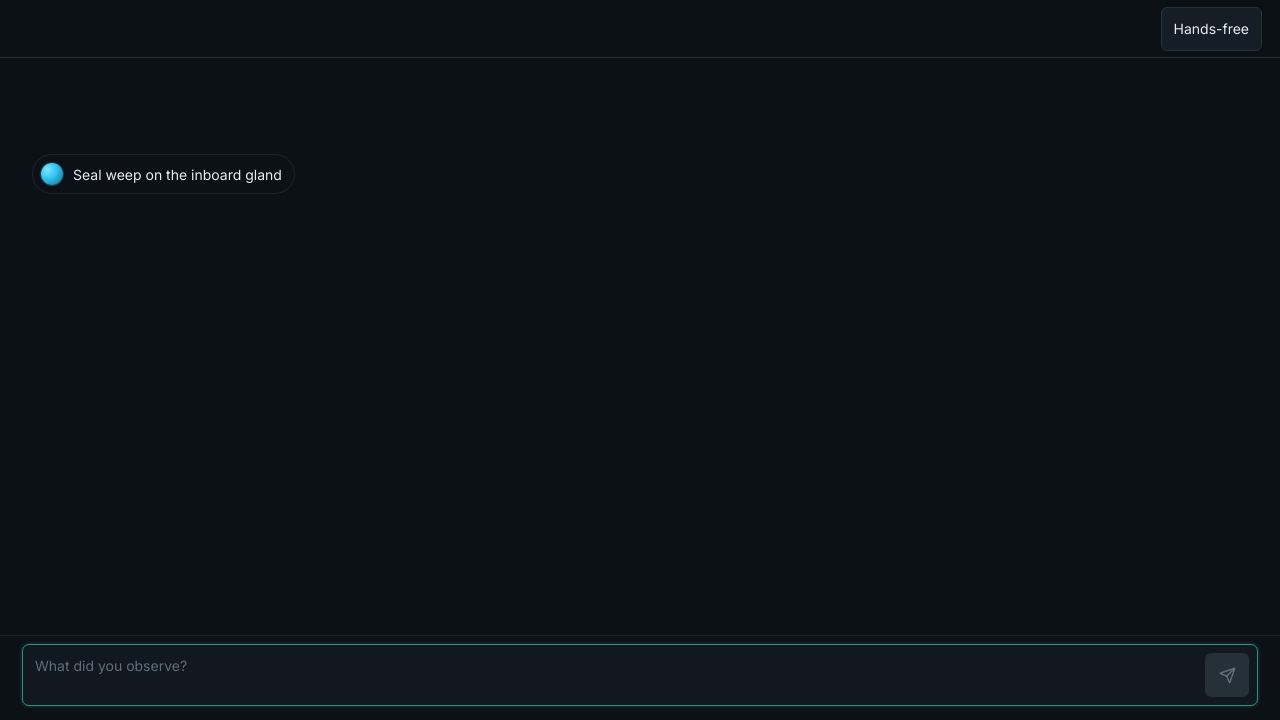
FieldPage › says plainly when a note was not filed because no asset is attached
This screenshot has width=1280, height=720.
Type "Seal weep on the inboard gland" into the text box with placeholder "What did you observe?" at [616, 676], box left=35, top=655, right=1197, bottom=697
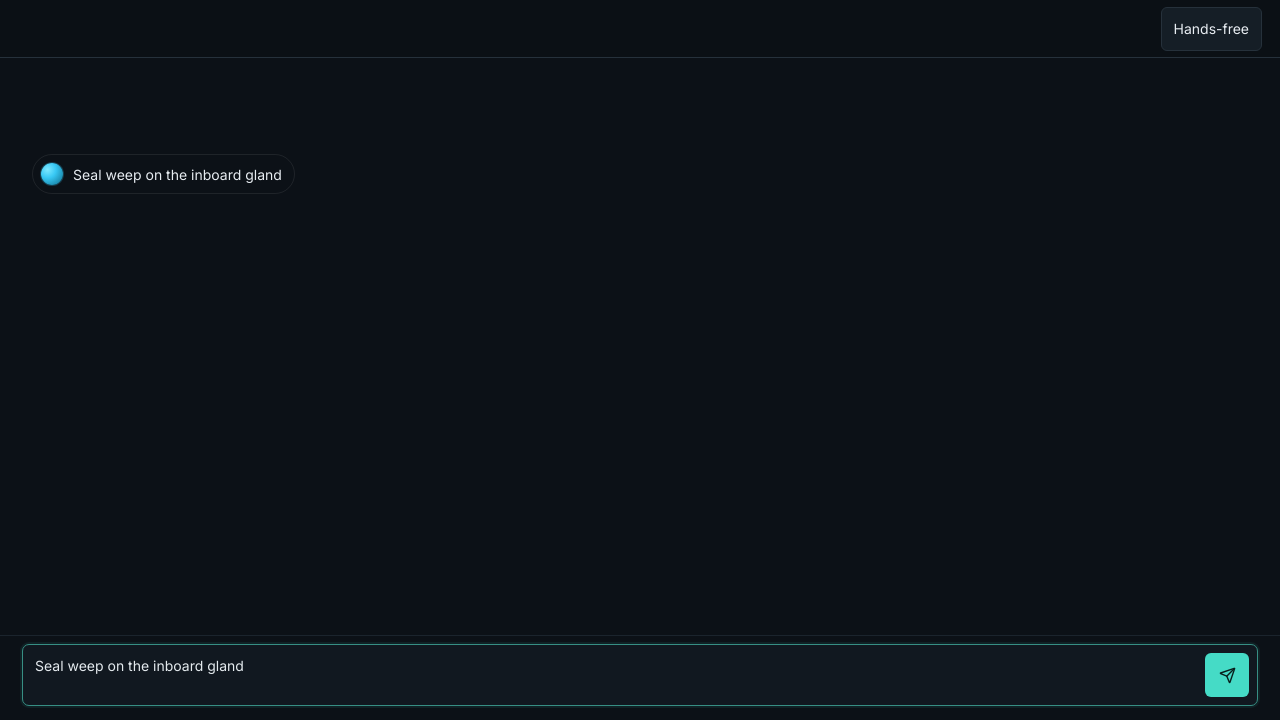
Click the button titled "Send message" at [1227, 675], box left=1205, top=653, right=1249, bottom=697
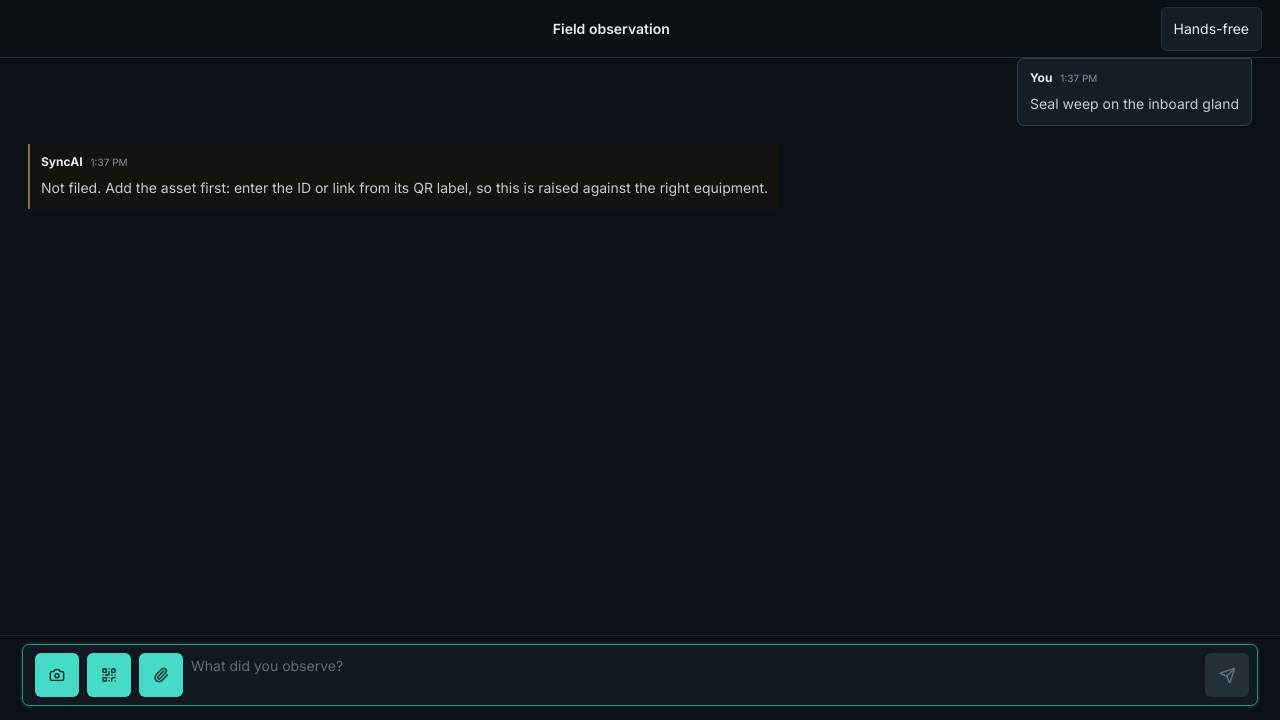
Now the text "Not filed. Add the asset first" is shown, box left=41, top=179, right=768, bottom=196
